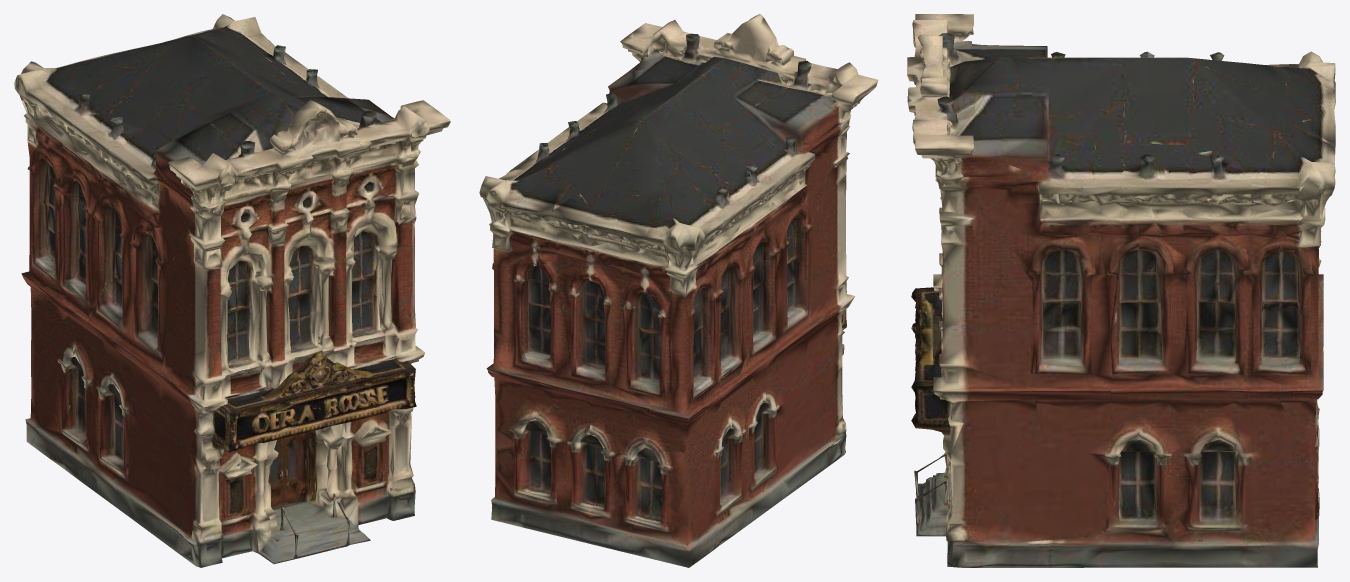
Rendered from springer.glb.
3 views of the same model, side by side, from view 1: azimuth 30°, elevation 25°; view 2: azimuth 150°, elevation 25°; view 3: azimuth 270°, elevation 25° (orthographic). The views are drawn at different scales.
Parts seen in each view (by area): view 1: Mesh_0; view 2: Mesh_0; view 3: Mesh_0.
Boxes of the visible parts, x1,y1,x2,y2 form: Mesh_0: [14, 14, 450, 567]; Mesh_0: [479, 14, 878, 567]; Mesh_0: [907, 14, 1335, 567].
Bounding box in the file's own units: 1.15 × 1.9 × 1.55.
Materials: 1 (1 with a texture image).
